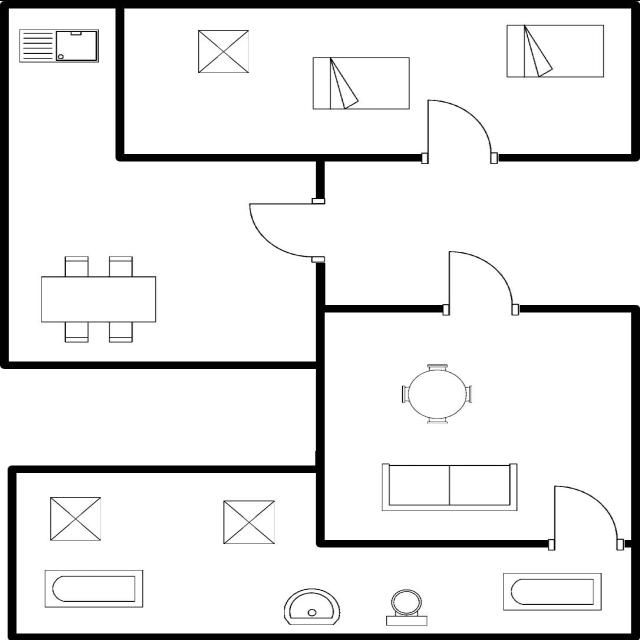bed: (502, 20, 610, 81), (308, 52, 412, 113)
coffee_table: (214, 496, 280, 548), (192, 25, 254, 79), (45, 493, 105, 544)
dining_table: (36, 250, 158, 346)
large_sink: (379, 584, 434, 630)
large_sofa: (377, 458, 522, 514)
round_table: (397, 359, 475, 427)
sink: (13, 25, 104, 65)
small_sink: (279, 584, 344, 630)
tub: (38, 564, 148, 612), (498, 568, 608, 614)
